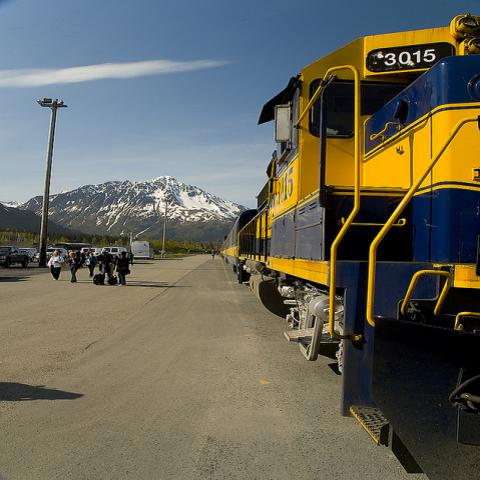car: (0, 246, 30, 269), (36, 248, 68, 262), (19, 249, 35, 262), (81, 246, 101, 256), (102, 247, 127, 254), (166, 251, 172, 253)
truck: (0, 246, 30, 268), (34, 248, 69, 262), (80, 247, 103, 256), (103, 246, 127, 254)
